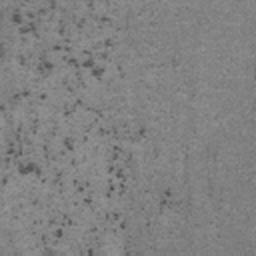Oxide scale of temperature system: (0, 0, 146, 233), (32, 197, 73, 256), (0, 90, 47, 114), (157, 188, 174, 215), (123, 244, 133, 256), (86, 247, 95, 256)
